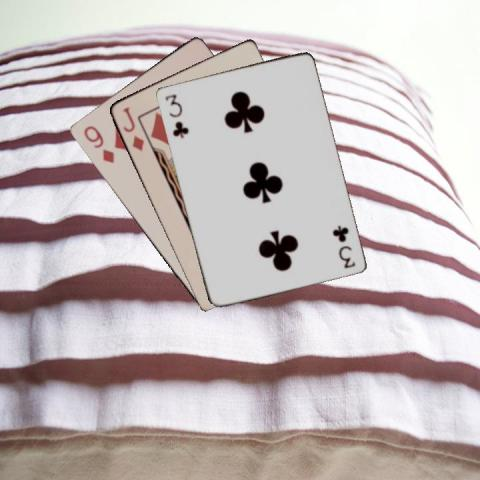3c: (161, 92, 190, 140), (330, 223, 356, 269)
9d: (80, 122, 115, 165)
Jd: (119, 103, 145, 153)
